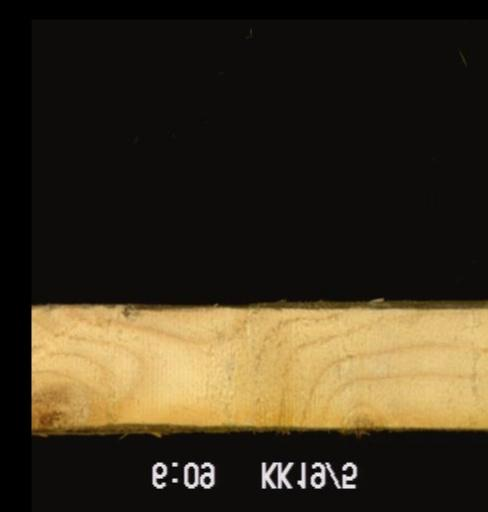edge_knot: (339, 399, 387, 431), (31, 401, 71, 431)
